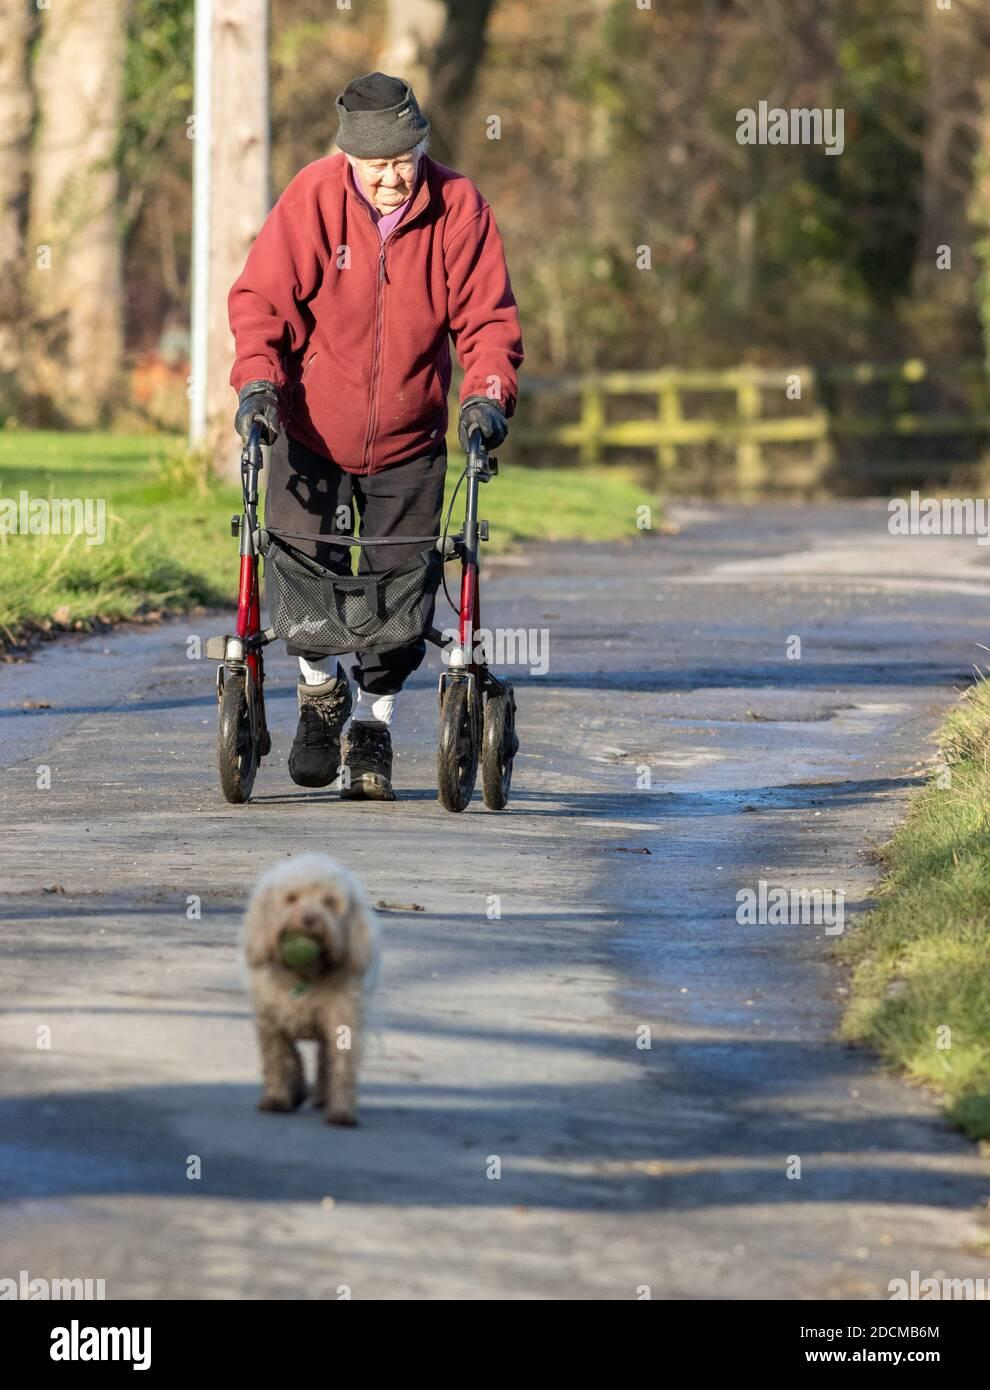walking_frame: (217, 72, 520, 810)
